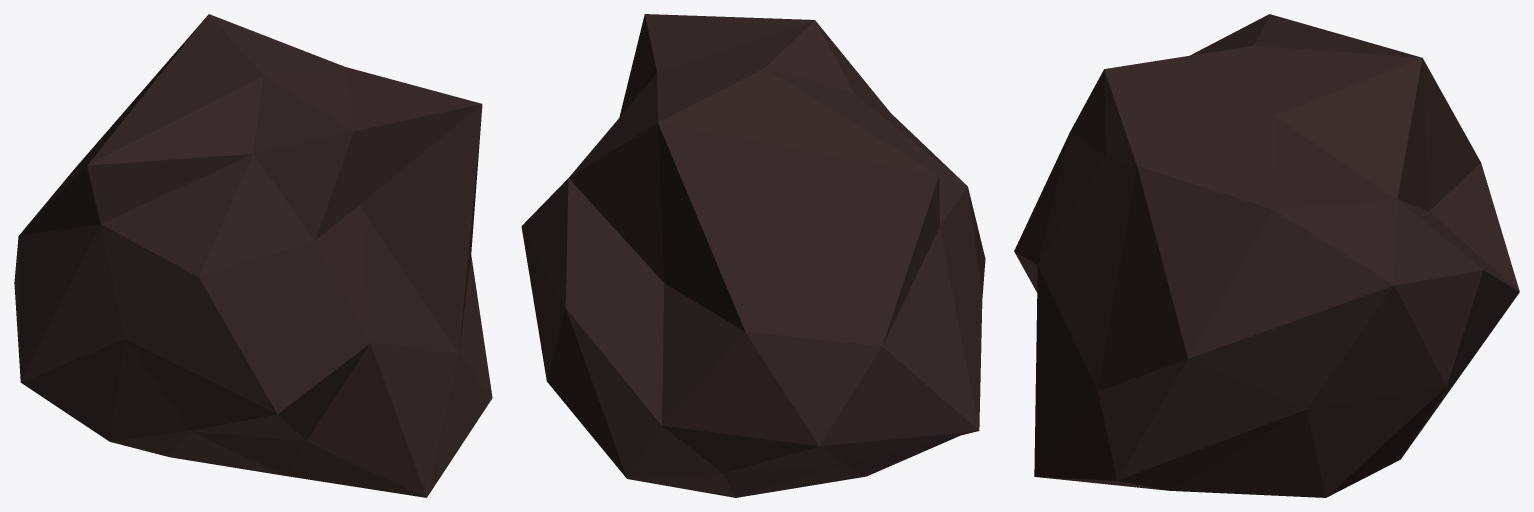
Rendered from asteroid.obj.
3 renders of one model, left to right at view 1: azimuth 30°, elevation 25°; view 2: azimuth 150°, elevation 25°; view 3: azimuth 270°, elevation 25°, orthographic. The views are drawn at different scales.
Visible parts, largest first — view 1: meteoro_Icosphere; view 2: meteoro_Icosphere; view 3: meteoro_Icosphere.
Boxes of the visible parts, bbox=[...] form: meteoro_Icosphere: bbox=[14, 14, 492, 497]; meteoro_Icosphere: bbox=[521, 14, 985, 497]; meteoro_Icosphere: bbox=[1014, 14, 1519, 497].
Bounding box in the file's own units: 3.09 × 2.81 × 3.1.
1 material, 1 textured.
